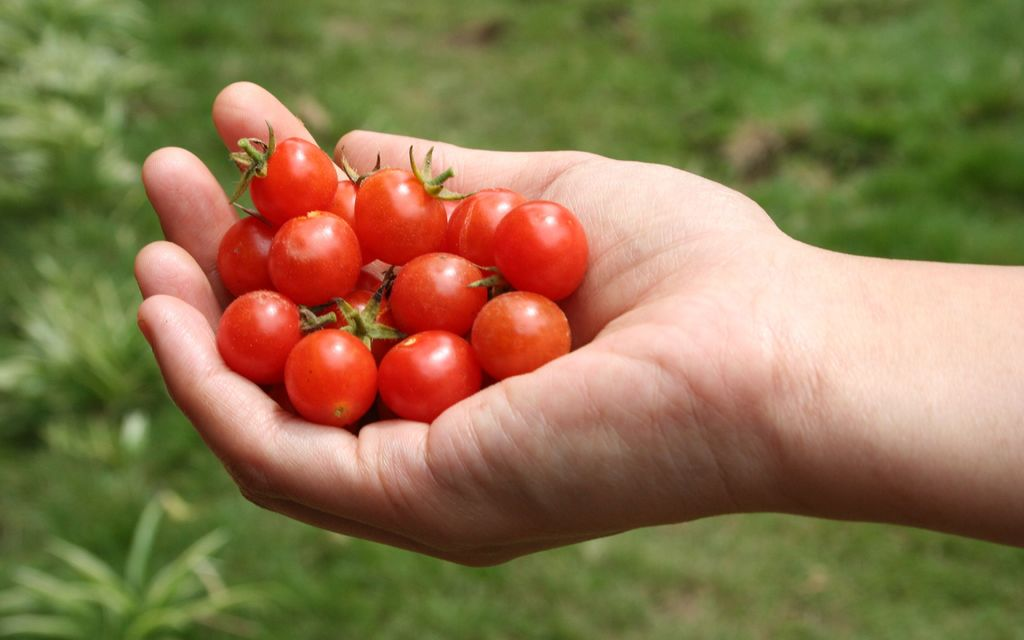Tomato: (213, 121, 595, 419), (364, 320, 465, 418)
